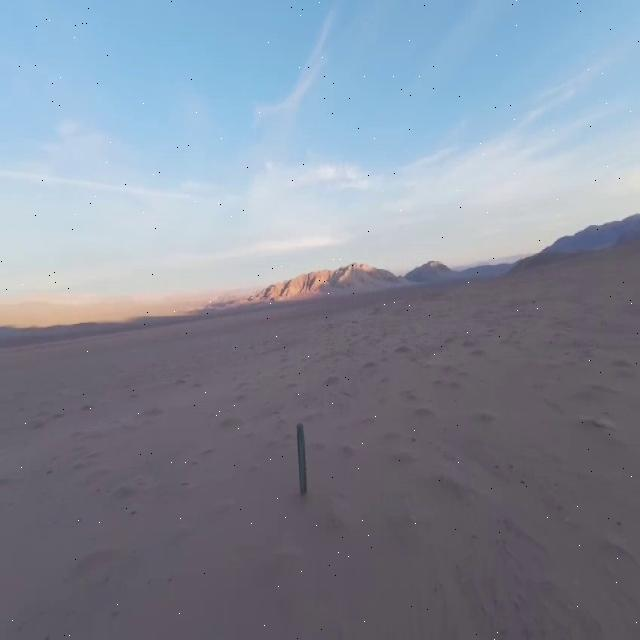Tire: (298, 423, 306, 494)
